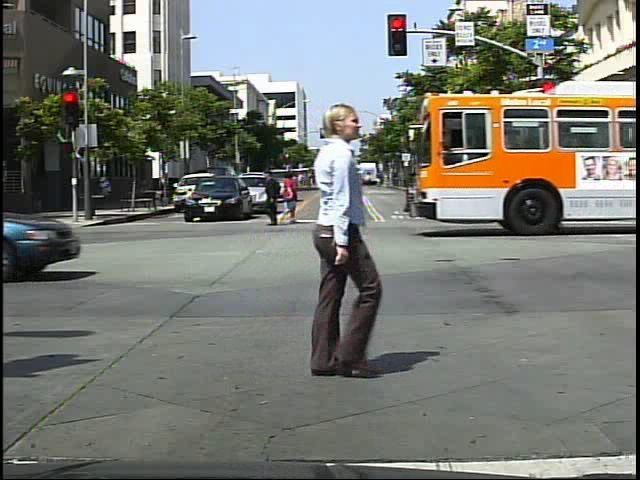person: (254, 88, 383, 388), (258, 164, 291, 236), (280, 168, 302, 225), (551, 160, 573, 211), (348, 163, 362, 226)
